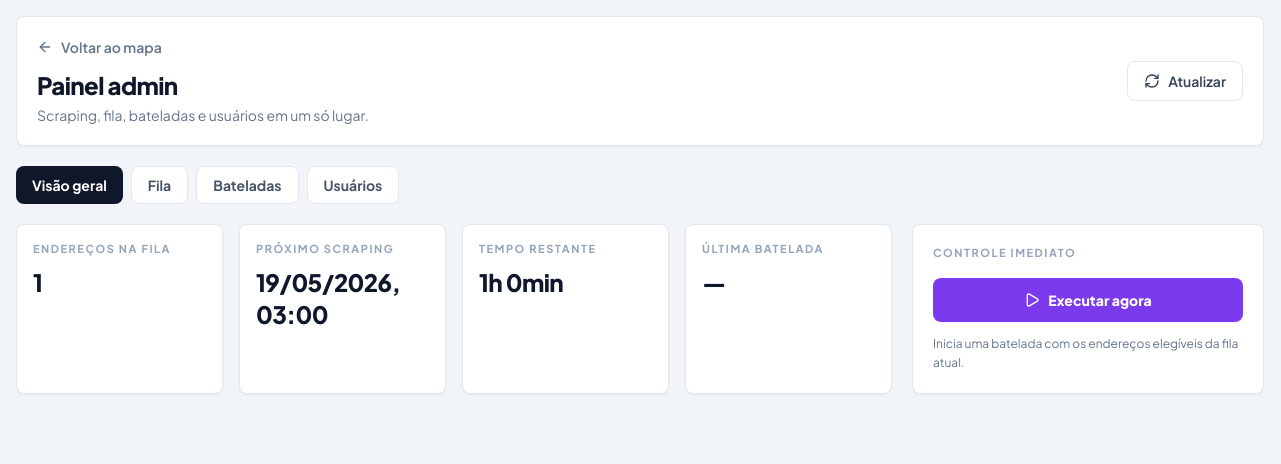
ScrapingAdminPage › permite liberar scraping imediato para um usuario
Click the button "Usuários" at (353, 185), box x1=306 y1=166 x2=399 y2=204
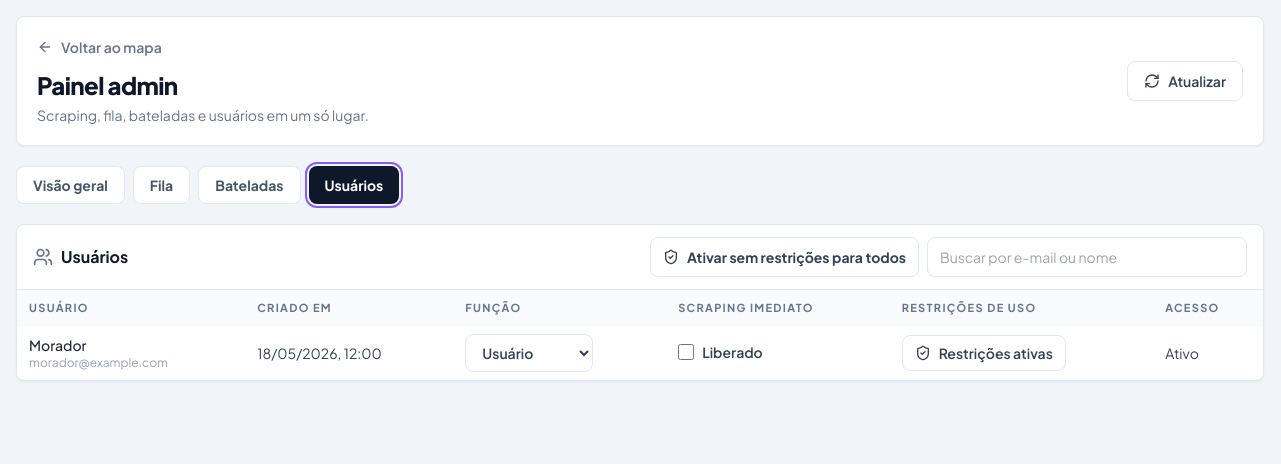
Click the checkbox labelled "Liberado" at (686, 352), box x1=678 y1=344 x2=694 y2=360
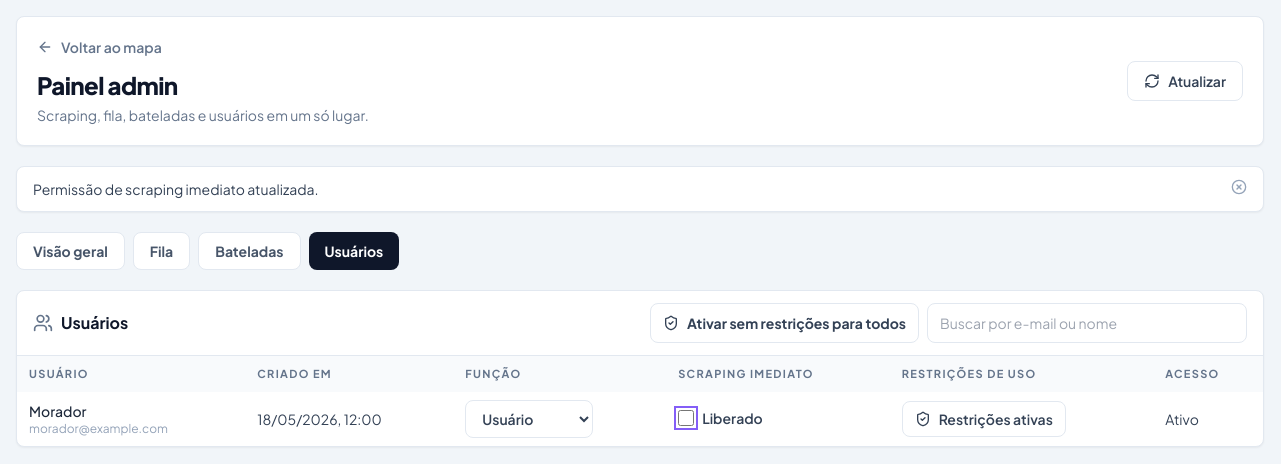
Expected: the text "Permissão de scraping imediato atualizada." is shown, x1=33 y1=179 x2=319 y2=199
